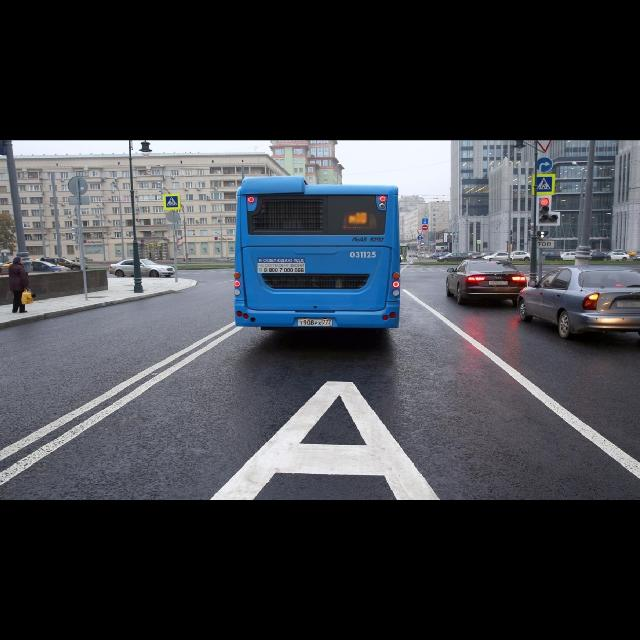road: (0, 265, 640, 500)
